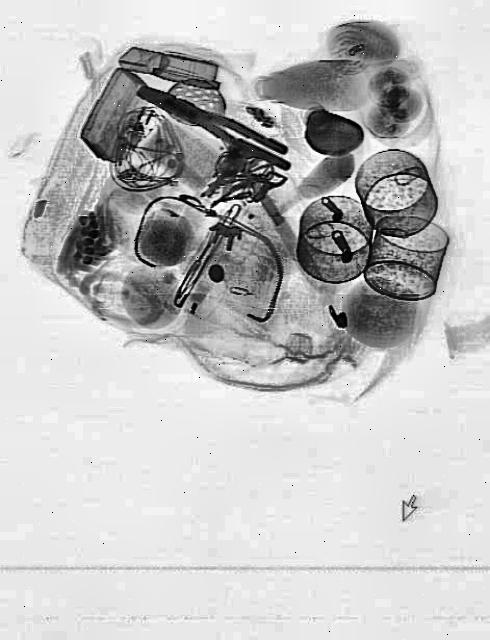Pliers: (133, 80, 295, 176)
